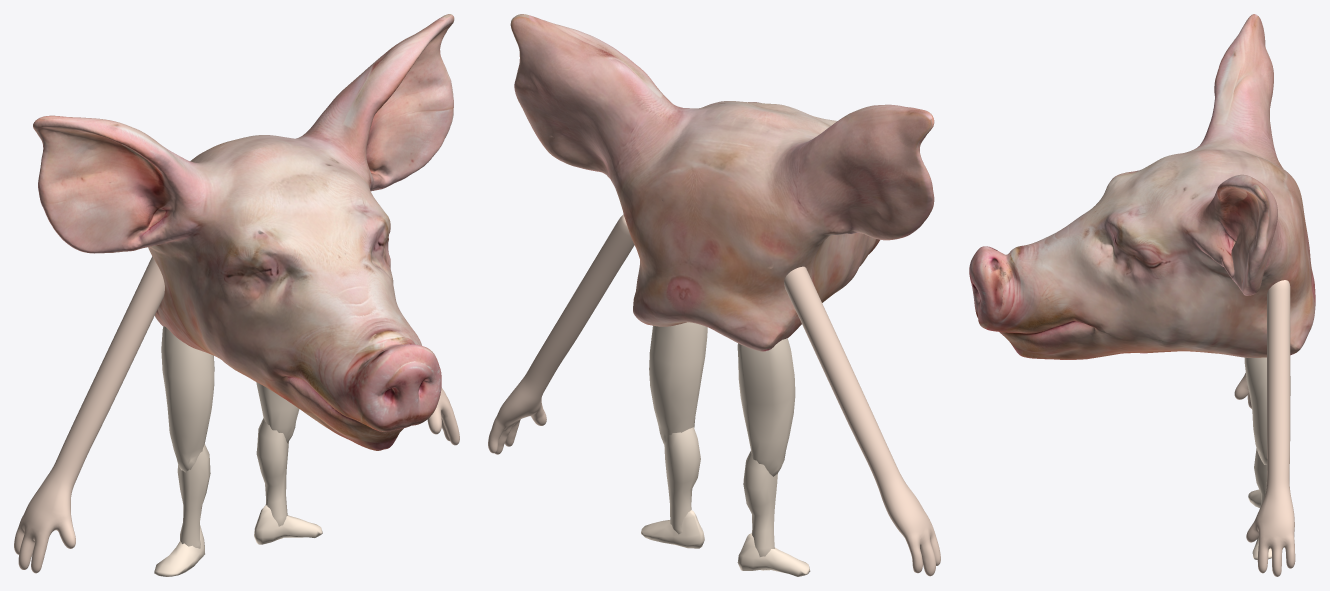
Rendered from raffalello_il_porcello_for_brainrot_animals.glb.
3 renders of one model, left to right at view 1: azimuth 30°, elevation 25°; view 2: azimuth 150°, elevation 25°; view 3: azimuth 270°, elevation 25°, orthographic. The views are drawn at different scales.
Visible parts, largest first — view 1: node_id72_19, node_id96_9, node_id34_15, node_id63_7, node_id36_16, node_id65_8, node_id61_3, node_id38_17, node_id81_18; view 2: node_id72_19, node_id96_9, node_id81_18, node_id34_15, node_id61_3, node_id63_7, node_id36_16, node_id38_17, node_id65_8; view 3: node_id72_19, node_id81_18, node_id61_3.
Part boxes in pixels (x1,y1,x2,y2): node_id72_19: (33, 14, 454, 450); node_id96_9: (14, 256, 164, 573); node_id34_15: (161, 326, 214, 472); node_id63_7: (256, 418, 288, 539); node_id36_16: (177, 444, 210, 548); node_id65_8: (254, 505, 322, 544); node_id61_3: (256, 382, 299, 443); node_id38_17: (154, 525, 204, 576); node_id81_18: (427, 388, 459, 445); node_id72_19: (510, 14, 934, 351); node_id96_9: (784, 266, 940, 576); node_id81_18: (488, 214, 634, 454); node_id34_15: (737, 338, 795, 476); node_id61_3: (649, 322, 707, 445); node_id63_7: (664, 427, 700, 534); node_id36_16: (743, 451, 777, 570); node_id38_17: (737, 533, 810, 576); node_id65_8: (641, 510, 704, 548); node_id72_19: (969, 14, 1315, 359); node_id81_18: (1246, 280, 1295, 576); node_id61_3: (1244, 357, 1290, 464).
Bounding box in the file's own units: 0.3825 × 0.4086 × 0.2969.
8 materials, 8 textured.
